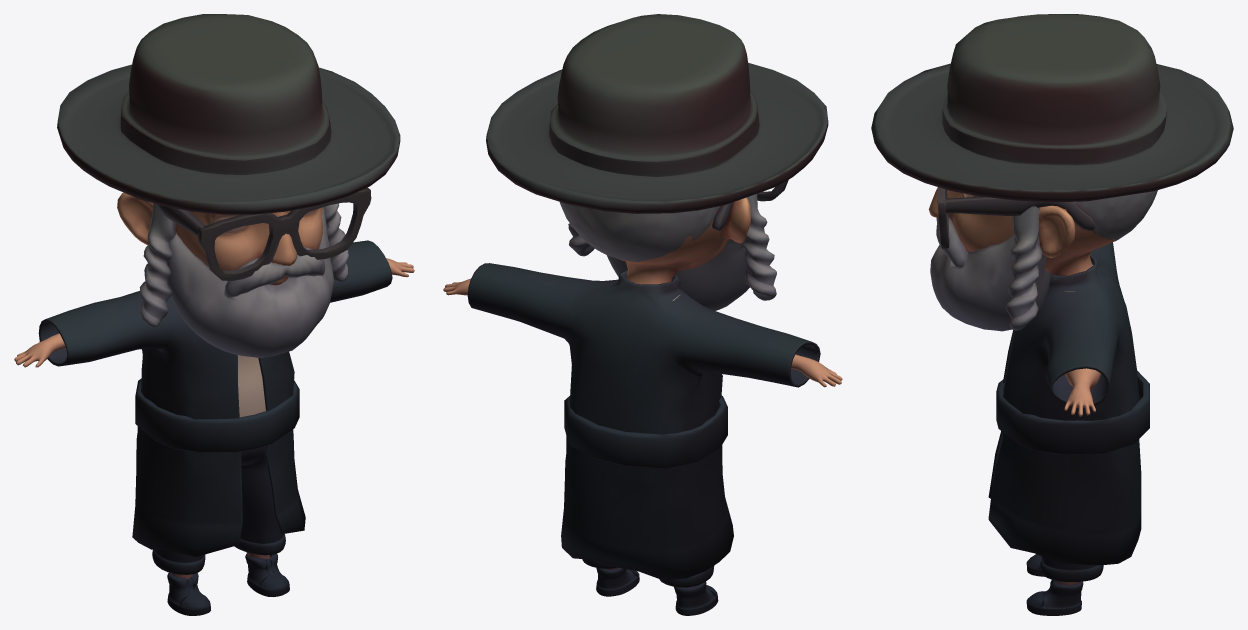
File: Rabbi.fbx
3 renders of one model, left to right at view 1: azimuth 30°, elevation 25°; view 2: azimuth 150°, elevation 25°; view 3: azimuth 270°, elevation 25°, orthographic.
Parts seen in each view (by area): view 1: Hat_LP, Bekishe_LP, Beard_LP, Body_LP, Belt_LP, Glasses_LP, Pants_LP, Shoes_LP, Tzitsit_LP; view 2: Bekishe_LP, Hat_LP, Body_LP, Beard_LP, Belt_LP, Shoes_LP, Pants_LP, Glasses_LP; view 3: Hat_LP, Bekishe_LP, Beard_LP, Body_LP, Belt_LP, Glasses_LP, Shoes_LP, Pants_LP.
Boxes of the visible parts, x1,y1,x2,y2 form: Hat_LP: (57,14,400,214); Bekishe_LP: (38,240,392,557); Beard_LP: (139,203,348,358); Body_LP: (14,192,414,578); Belt_LP: (135,378,299,452); Glasses_LP: (158,187,371,280); Pants_LP: (152,446,285,574); Shoes_LP: (167,553,289,615); Tzitsit_LP: (237,355,265,417); Bekishe_LP: (467,263,820,580); Hat_LP: (486,14,828,213); Body_LP: (443,197,842,587); Beard_LP: (568,194,776,310); Belt_LP: (564,395,727,468); Shoes_LP: (596,567,718,615); Pants_LP: (582,559,714,587); Glasses_LP: (712,180,788,230); Hat_LP: (871,14,1233,202); Bekishe_LP: (988,242,1141,565); Beard_LP: (930,206,1051,331); Body_LP: (928,188,1157,584); Belt_LP: (996,370,1149,454); Glasses_LP: (937,187,1095,248); Shoes_LP: (1026,554,1083,615); Pants_LP: (1040,556,1103,581).
Bounding box in the file's own units: 122 × 161 × 96.86.
